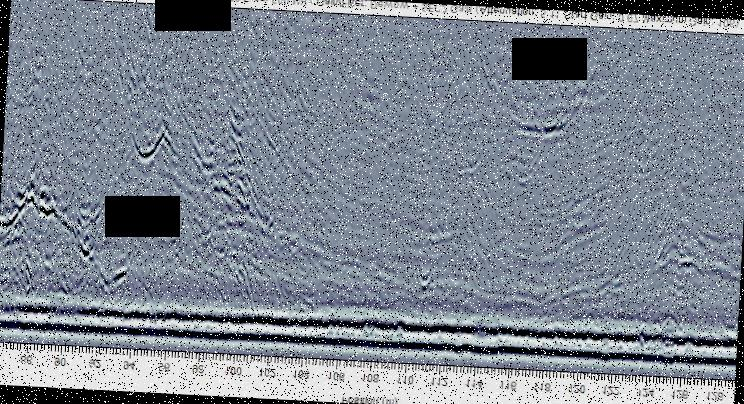Hyperbola: (469, 79, 596, 182), (110, 74, 188, 184), (384, 242, 448, 314), (278, 248, 314, 299), (70, 224, 107, 273), (188, 209, 216, 254), (661, 227, 697, 259), (714, 243, 742, 280), (144, 211, 170, 250), (628, 312, 654, 336)
